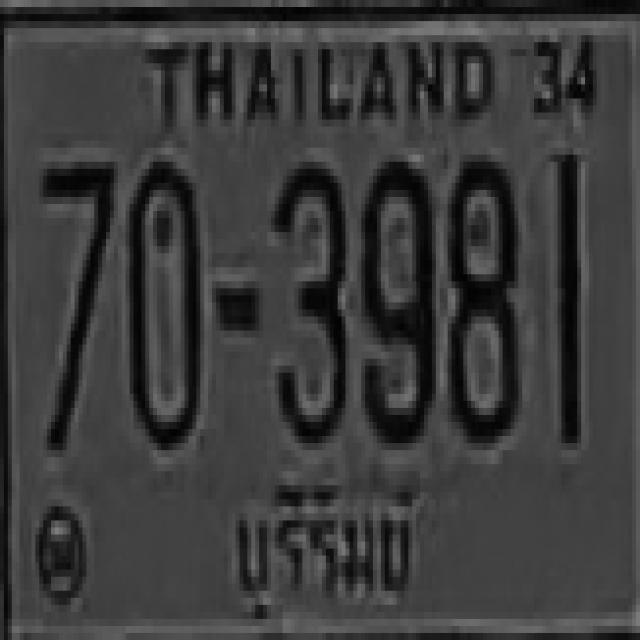0: (126, 155, 196, 443)
1: (554, 151, 577, 440)
3: (273, 158, 343, 440)
7: (39, 155, 114, 443)
8: (448, 155, 514, 436)
9: (357, 155, 432, 436)
Buriram: (222, 473, 423, 629)
